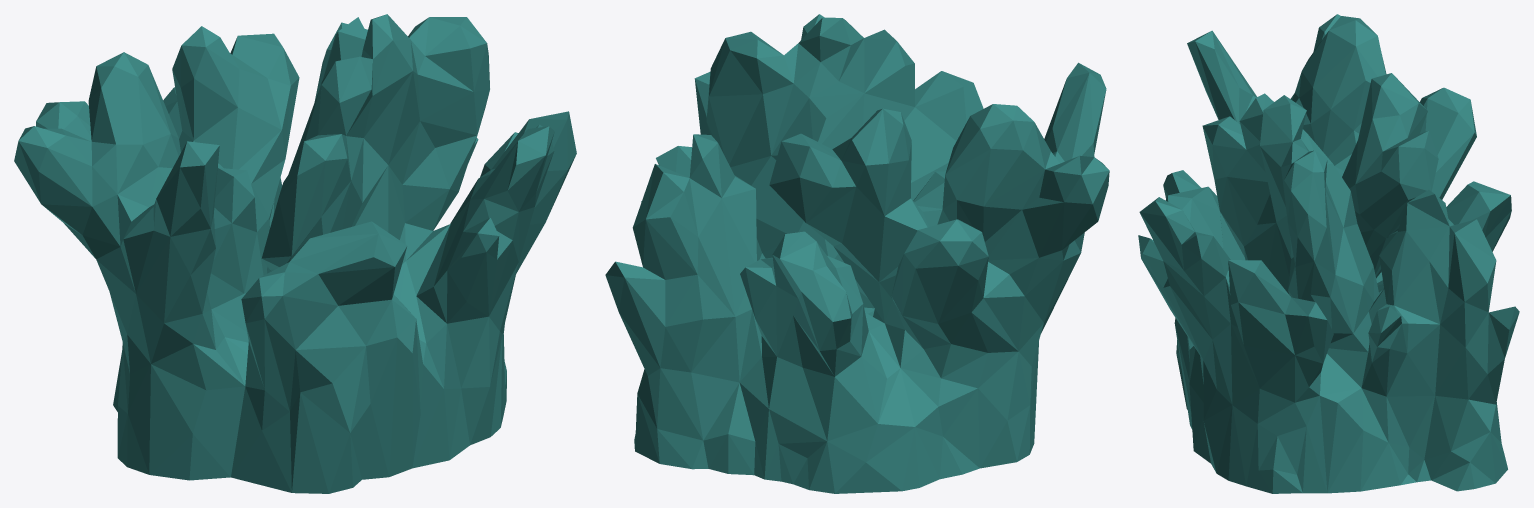
The model's file is SM_Coral_Cauliflower_Dead_A.fbx.
3 views of the same model, side by side, from view 1: azimuth 30°, elevation 25°; view 2: azimuth 150°, elevation 25°; view 3: azimuth 270°, elevation 25° (orthographic). The views are drawn at different scales.
Parts seen in each view (by area): view 1: coral-cauliflower-dead-a; view 2: coral-cauliflower-dead-a; view 3: coral-cauliflower-dead-a.
Part boxes in pixels (x1=…): coral-cauliflower-dead-a: x1=14, y1=14, x2=576, y2=493; coral-cauliflower-dead-a: x1=605, y1=14, x2=1109, y2=493; coral-cauliflower-dead-a: x1=1138, y1=14, x2=1519, y2=493.
Bounding box in the file's own units: 1.16 × 0.9031 × 0.9009.
